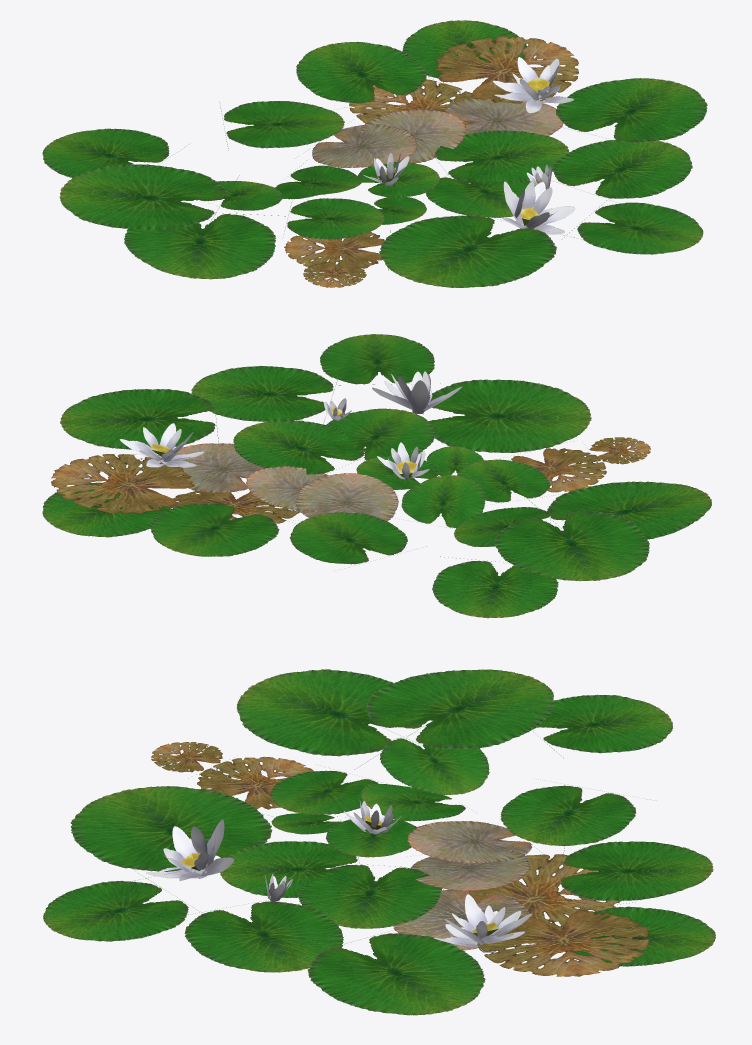
Rendered from Hangzhou_wj_056.FBX.
3 renders of one model, top to bottom at view 1: azimuth 30°, elevation 25°; view 2: azimuth 150°, elevation 25°; view 3: azimuth 270°, elevation 25°, orthographic. The views are drawn at different scales.
Visible parts, largest first — view 1: HC_shuilian001_001; view 2: HC_shuilian001_001; view 3: HC_shuilian001_001.
Part boxes in pixels (x1,y1,x2,y2): HC_shuilian001_001: [42, 20, 707, 287]; HC_shuilian001_001: [42, 334, 711, 618]; HC_shuilian001_001: [43, 669, 715, 1015].
Size of the model in its own units: 172 by 14.19 by 141.
Materials: 1 (1 with a texture image).
